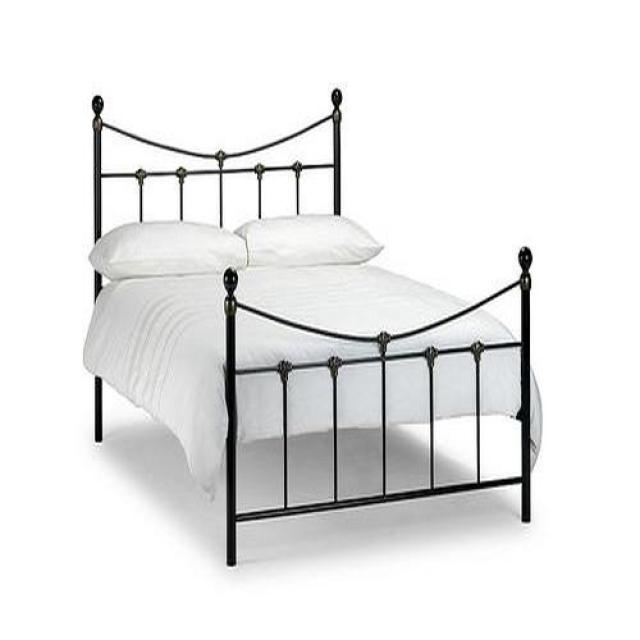bed: (82, 91, 541, 568)
